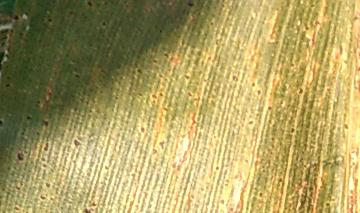tarspot: (296, 84, 308, 98), (133, 64, 144, 77), (229, 72, 240, 85), (288, 125, 299, 137), (72, 137, 82, 150), (137, 124, 147, 137), (182, 1, 198, 9), (264, 103, 275, 114), (38, 152, 49, 163), (322, 198, 332, 210), (275, 175, 287, 185), (212, 163, 222, 175), (15, 150, 24, 163), (43, 180, 54, 190), (37, 192, 47, 203), (2, 80, 13, 90), (44, 14, 54, 25), (99, 18, 110, 28), (305, 184, 316, 194), (39, 118, 51, 127), (183, 72, 191, 85), (41, 141, 51, 151), (72, 71, 83, 80), (246, 118, 257, 127), (254, 88, 265, 97), (11, 13, 20, 23), (161, 50, 171, 59), (89, 200, 100, 208), (255, 189, 266, 197), (17, 28, 25, 39), (150, 92, 158, 103), (84, 1, 96, 8), (14, 181, 21, 193), (341, 119, 353, 126), (38, 163, 50, 170), (24, 114, 33, 122), (13, 204, 21, 213), (1, 116, 6, 130), (250, 79, 257, 89), (80, 208, 93, 213), (4, 73, 11, 81)
